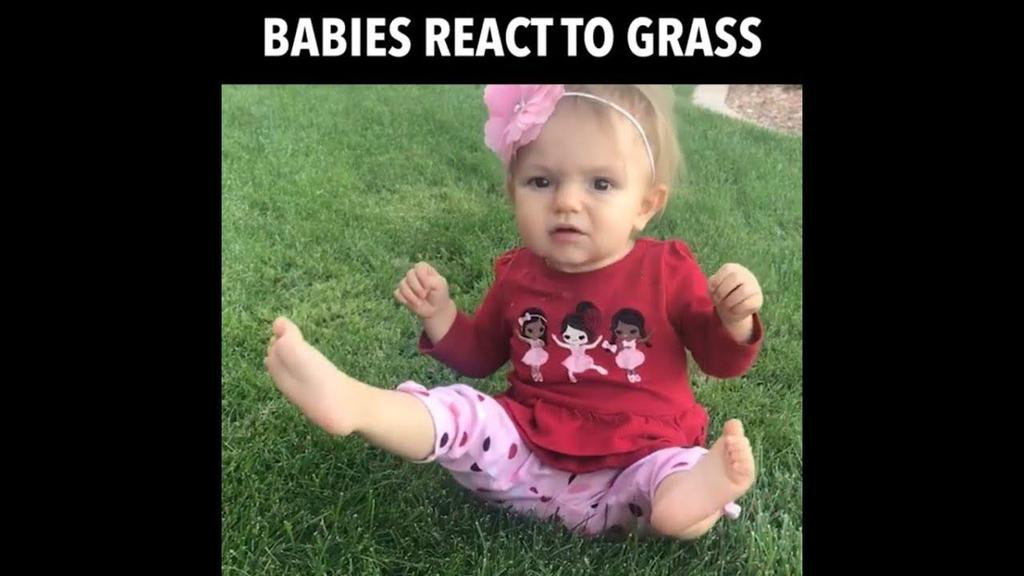child: (261, 80, 798, 551)
